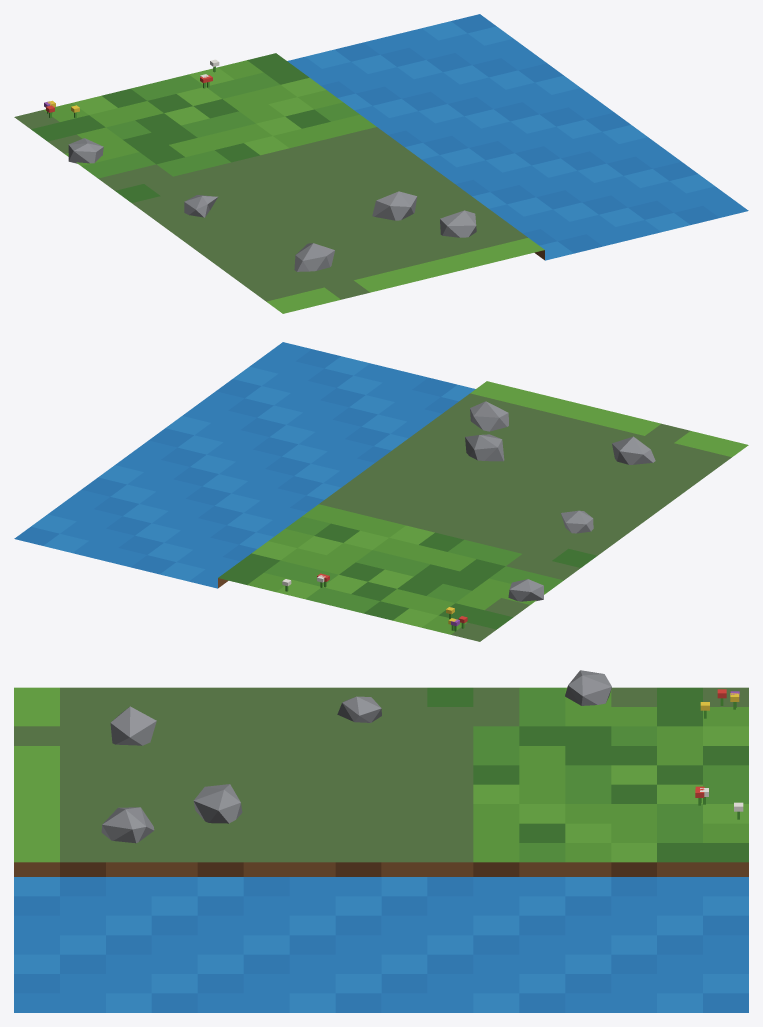
File: chunk_3_4.glb
The picture shows the model from 3 angles, top to bottom: view 1: azimuth 30°, elevation 25°; view 2: azimuth 150°, elevation 25°; view 3: azimuth 270°, elevation 25°; orthographic projection. The views are drawn at different scales.
Parts seen in each view (by area): view 1: chunk_3_4; view 2: chunk_3_4; view 3: chunk_3_4.
Boxes of the visible parts, left/top/right/bottom form: chunk_3_4: left=14, top=14, right=748, bottom=313; chunk_3_4: left=14, top=342, right=748, bottom=641; chunk_3_4: left=14, top=670, right=748, bottom=1012.
Size of the model in its own units: 16.16 by 1.09 by 16.
